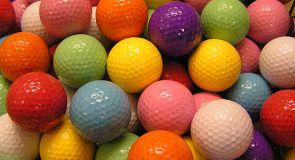blue ball: (70, 80, 132, 144), (229, 73, 272, 114)
red ball: (4, 71, 67, 132), (260, 89, 295, 148)
